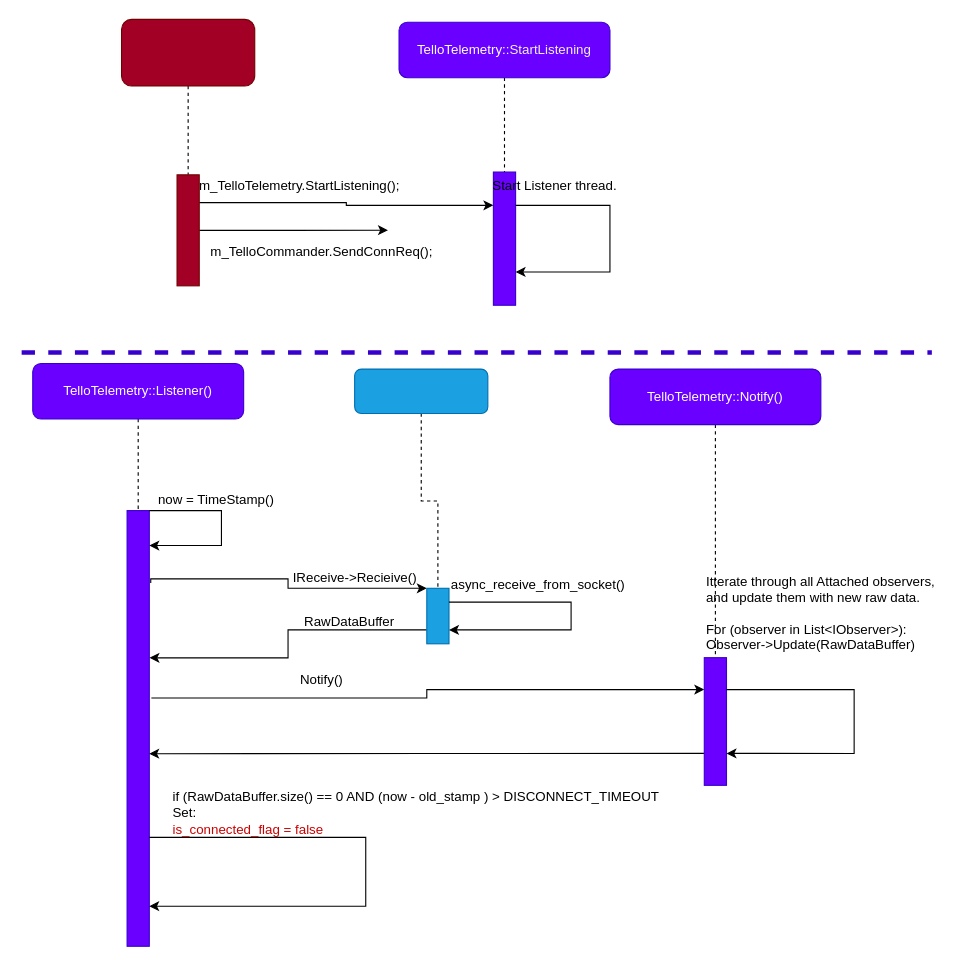
This 967x966 diagram has some shape labels left out. Each missing label, with the centre of its shape:
"<<IReceiver>>::Receive" belongs at pixel 421 390.
"TelloDriver::Connect()" belongs at pixel 187 52.
